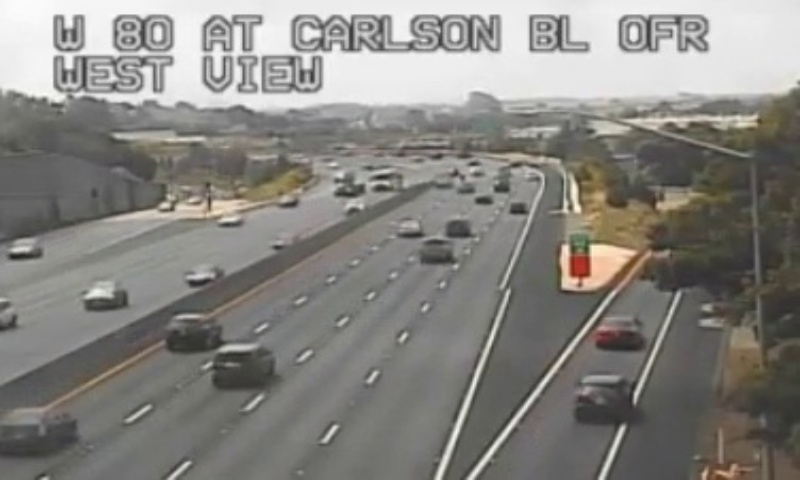car: (2, 407, 76, 452), (212, 342, 272, 387), (574, 375, 629, 420), (165, 313, 219, 348), (595, 317, 640, 350), (419, 238, 451, 263)
